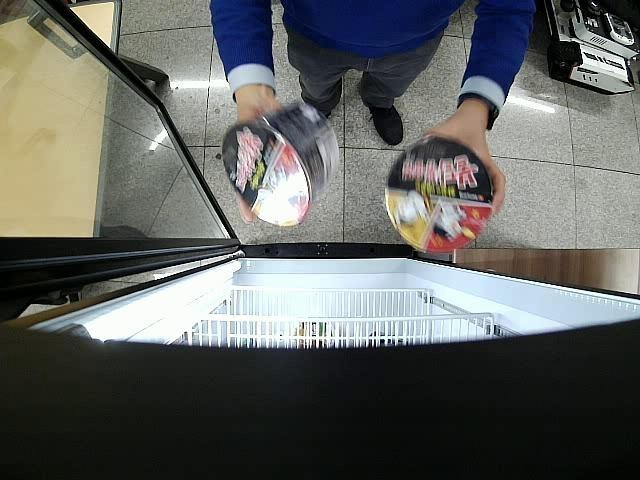07_buldak_L: (222, 104, 340, 226), (385, 138, 494, 253)
